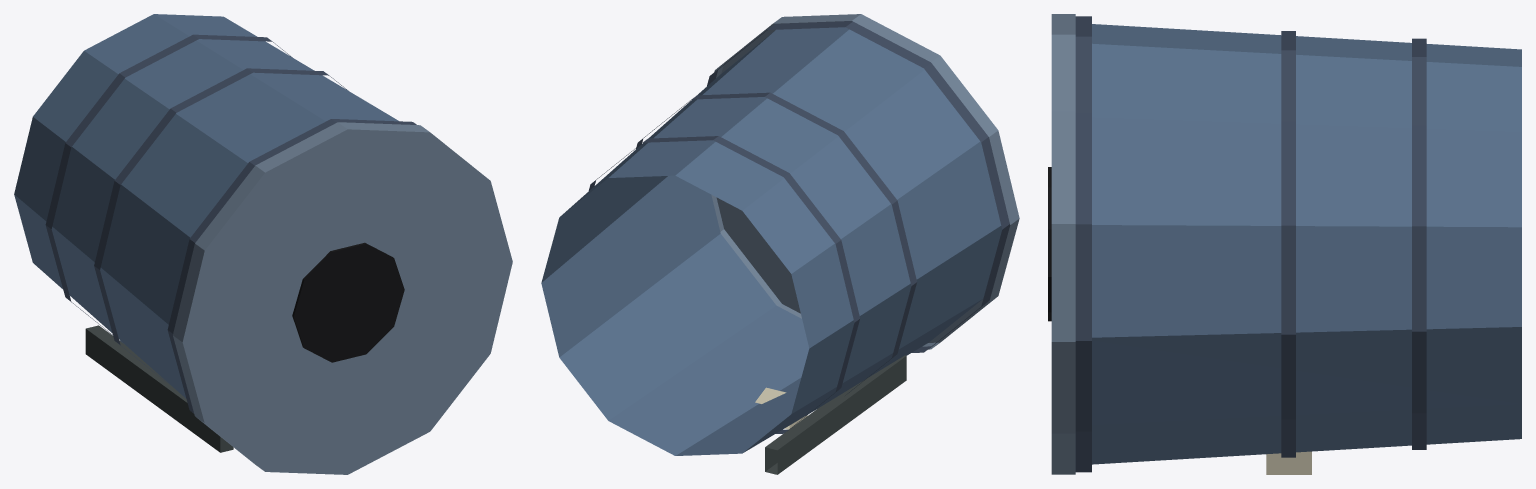
File: a_rdwc_site.obj
3 renders of one model, left to right at view 1: azimuth 30°, elevation 25°; view 2: azimuth 150°, elevation 25°; view 3: azimuth 270°, elevation 25°, orthographic. The views are drawn at different scales.
Bounding box in the file's own units: 0.5056 × 0.5079 × 0.5182.
1 material, 1 textured.
